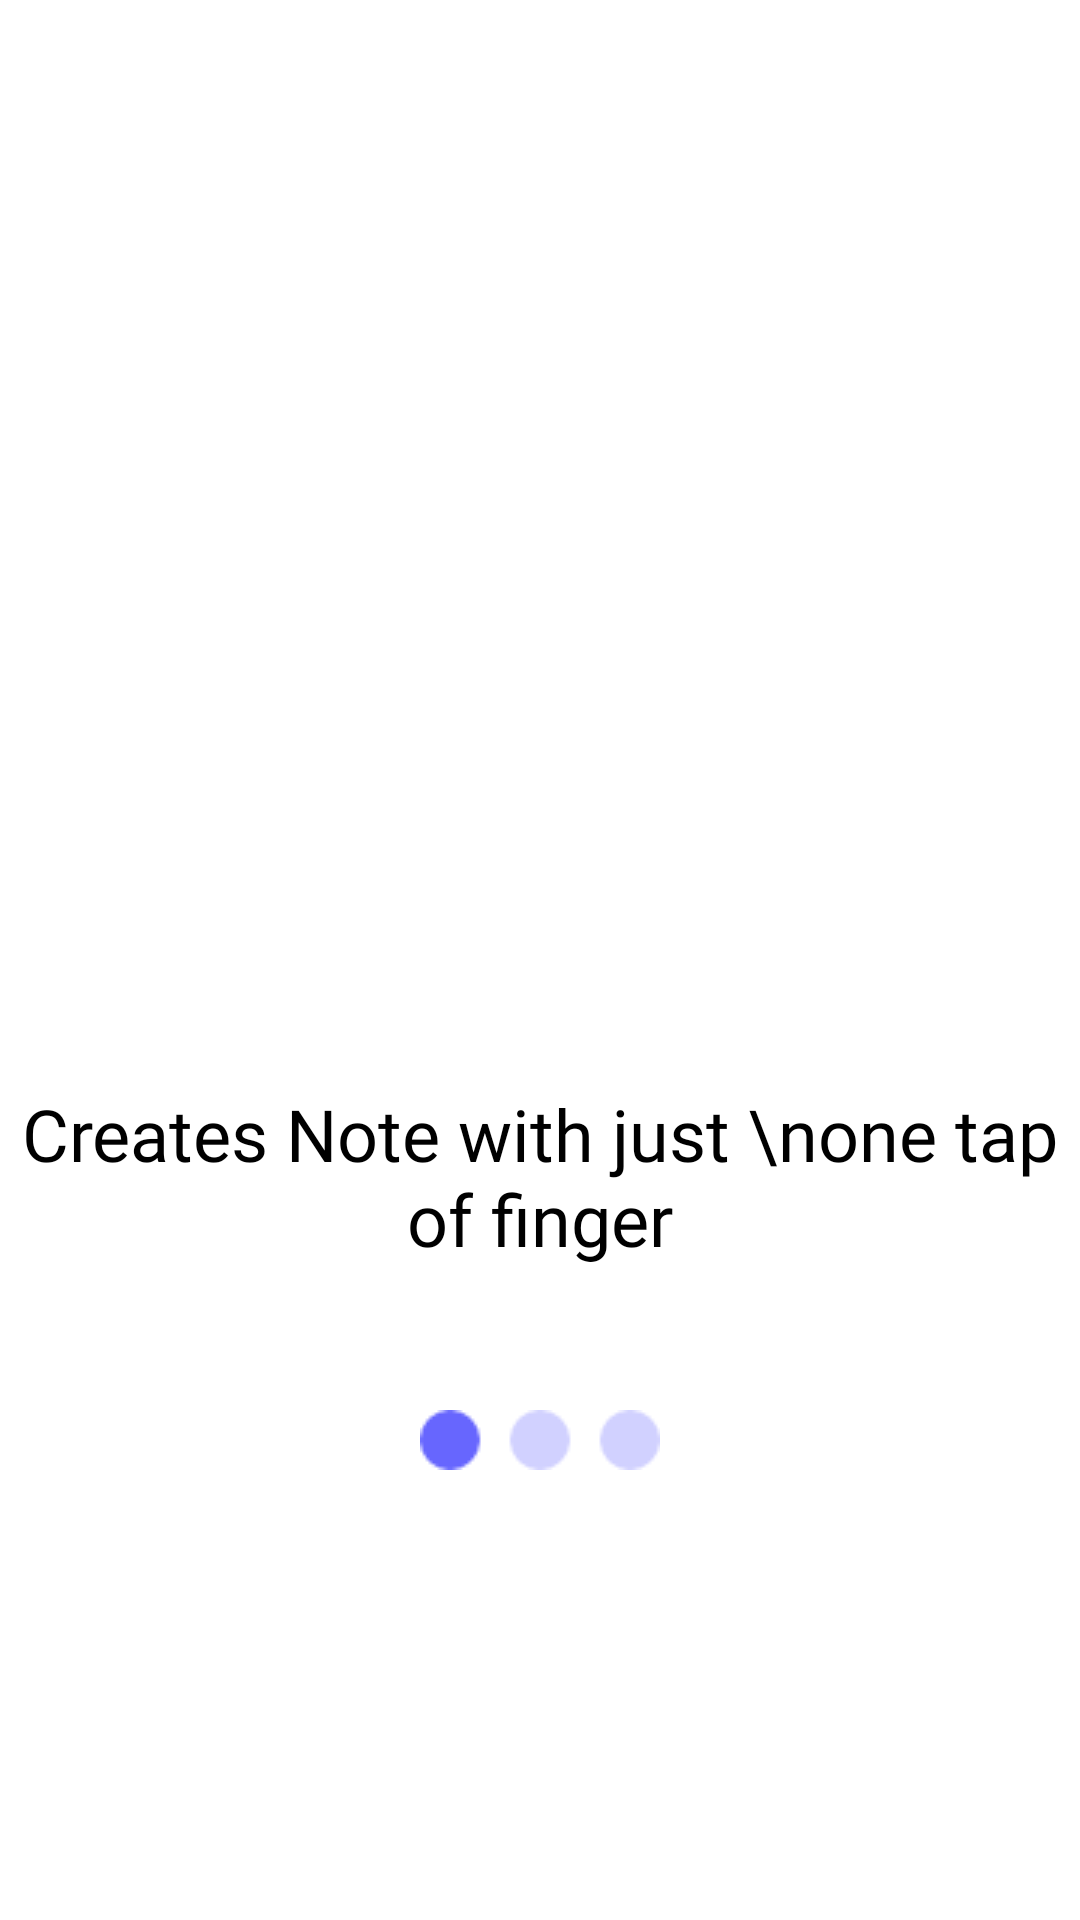

Where icons sit on this 1080 x 1920 app screen, as box(x1, y1, x2, y2):
onboarding first dots: box(420, 1410, 660, 1470)
